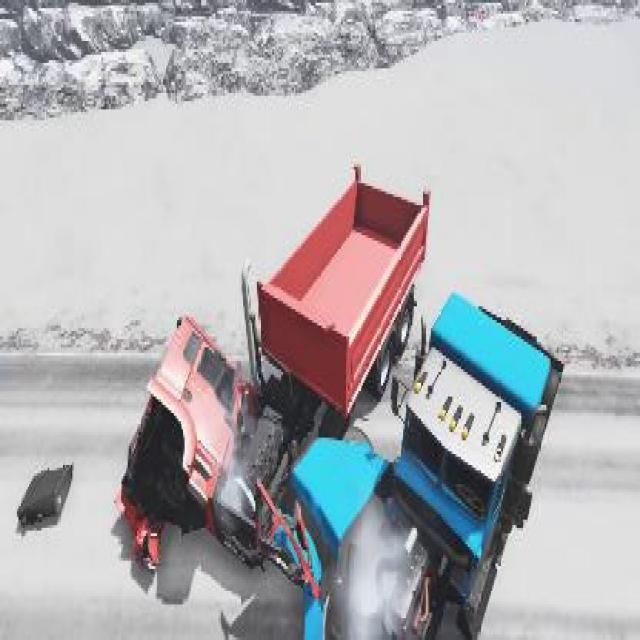accident: (112, 156, 568, 640)
